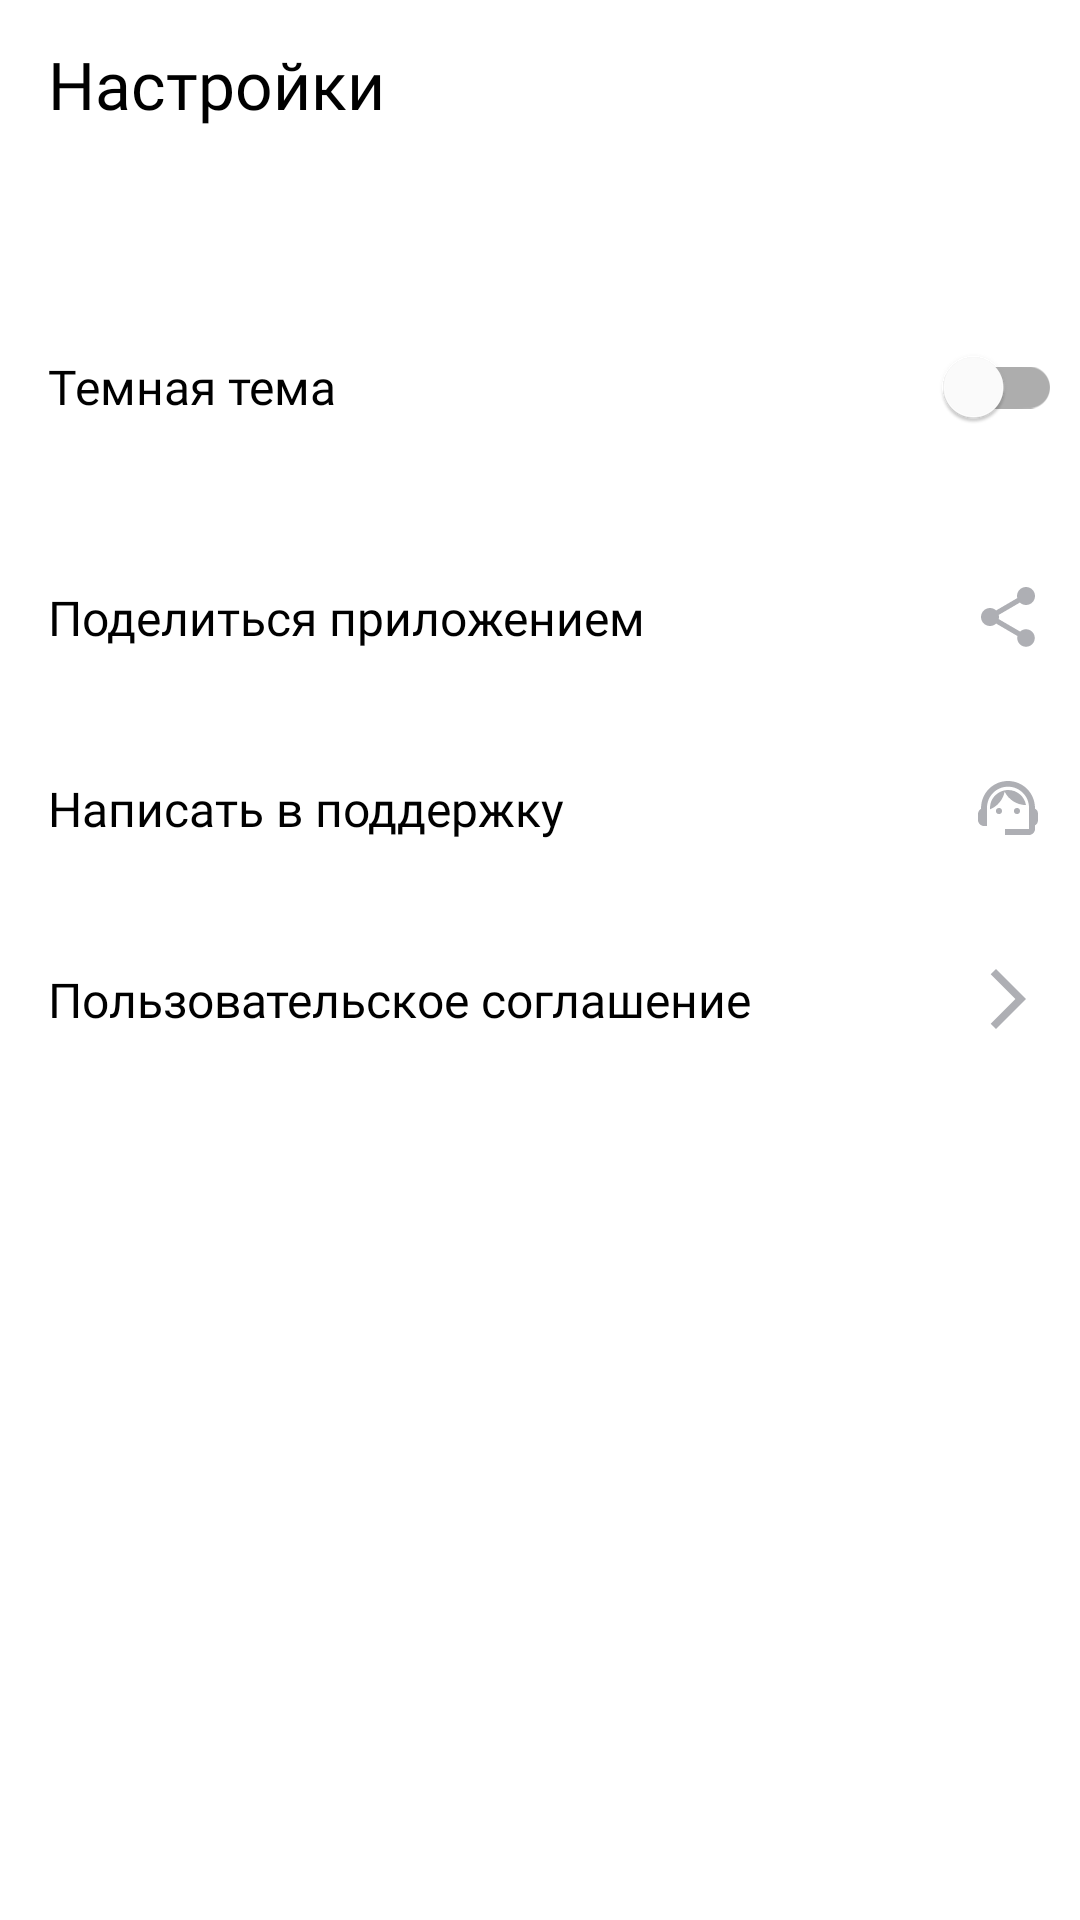

Where to tap for icons on this 1080px×1920px app screen, as point (x, y):
arrow right: point (1008, 999)
share: point (1008, 617)
support agent: point (1008, 808)
